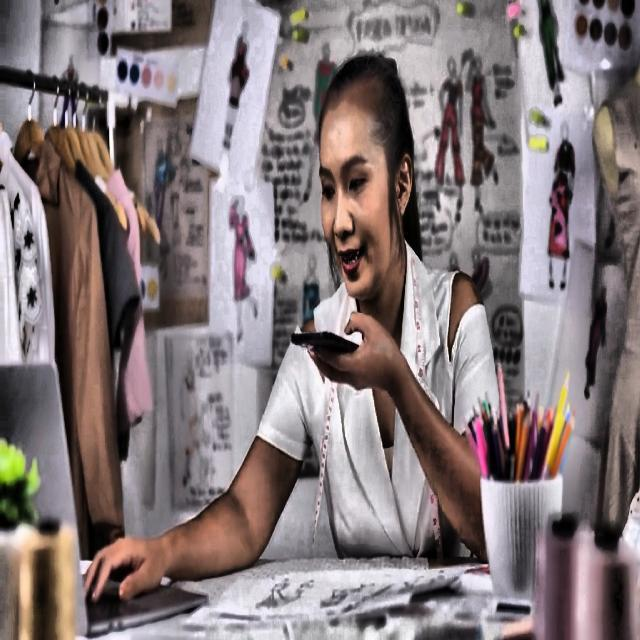Phone: (288, 329, 361, 356)
